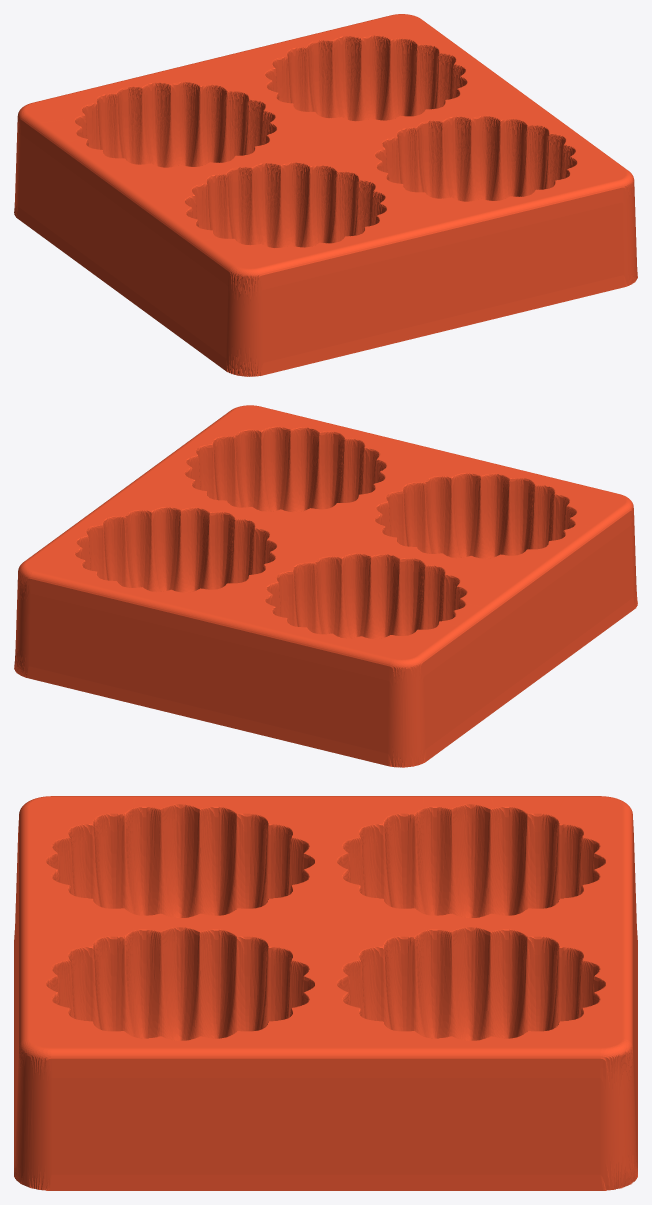
Rendered from mold.glb.
3 renders of one model, top to bottom at view 1: azimuth 30°, elevation 25°; view 2: azimuth 150°, elevation 25°; view 3: azimuth 270°, elevation 25°, orthographic. The views are drawn at different scales.
Parts seen in each view (by area): view 1: geometry_0; view 2: geometry_0; view 3: geometry_0.
Boxes of the visible parts, <box> form: geometry_0: <box>14,14,637,376</box>; geometry_0: <box>14,405,637,767</box>; geometry_0: <box>14,796,637,1190</box>.
Size of the model in its own units: 0.1493 by 0.036 by 0.1493.
